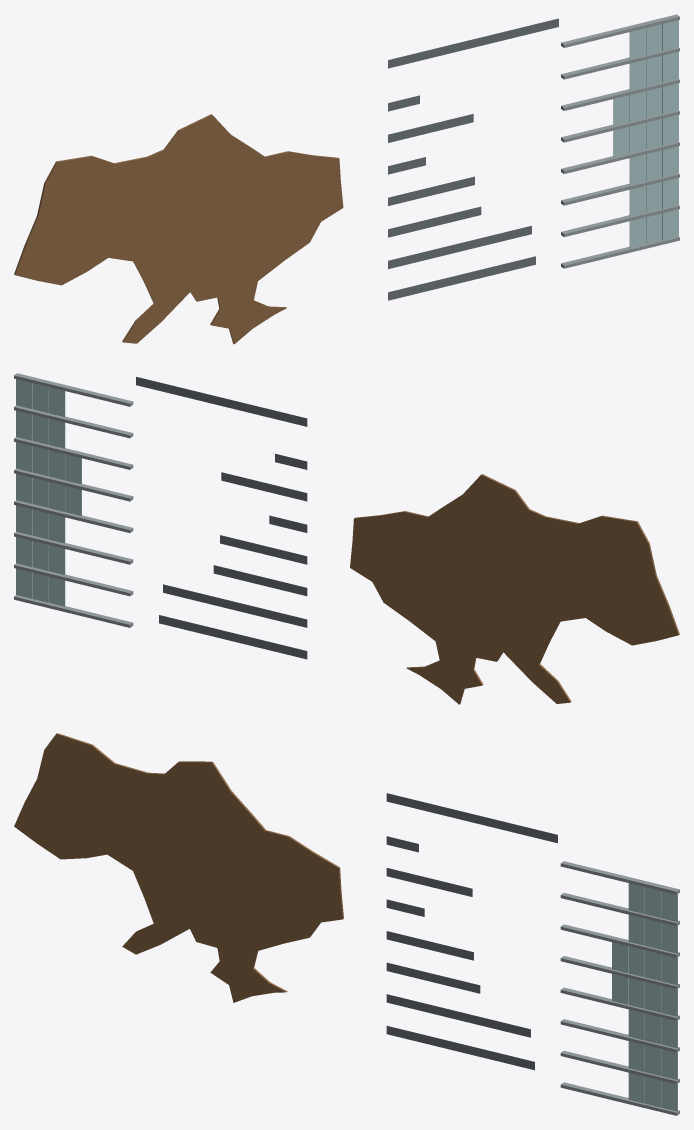
File: edsSignage-5.glb
3 renders of one model, top to bottom at view 1: azimuth 30°, elevation 25°; view 2: azimuth 150°, elevation 25°; view 3: azimuth 330°, elevation 25°, orthographic.
Visible parts, largest first — view 1: eds-ukraine/map-natural-plywood-edge, eds-ukraine/acrylic-proxy, eds-ukraine/brushed-metal-letters, eds-ukraine/anodized-aluminum; view 2: eds-ukraine/map-natural-plywood-edge, eds-ukraine/acrylic-proxy, eds-ukraine/brushed-metal-letters, eds-ukraine/anodized-aluminum; view 3: eds-ukraine/map-natural-plywood-edge, eds-ukraine/acrylic-proxy, eds-ukraine/brushed-metal-letters, eds-ukraine/anodized-aluminum.
Boxes of the visible parts, <box> form: eds-ukraine/map-natural-plywood-edge: <box>14,114,343,344</box>; eds-ukraine/acrylic-proxy: <box>613,20,678,248</box>; eds-ukraine/brushed-metal-letters: <box>388,18,558,300</box>; eds-ukraine/anodized-aluminum: <box>561,14,679,268</box>; eds-ukraine/map-natural-plywood-edge: <box>350,474,679,704</box>; eds-ukraine/acrylic-proxy: <box>16,379,81,606</box>; eds-ukraine/brushed-metal-letters: <box>136,376,307,659</box>; eds-ukraine/anodized-aluminum: <box>14,373,133,627</box>; eds-ukraine/map-natural-plywood-edge: <box>14,733,343,1002</box>; eds-ukraine/acrylic-proxy: <box>612,883,677,1111</box>; eds-ukraine/brushed-metal-letters: <box>386,793,557,1070</box>; eds-ukraine/anodized-aluminum: <box>560,861,679,1115</box>.
Size of the model in its own units: 3.15 by 1.14 by 0.026.
